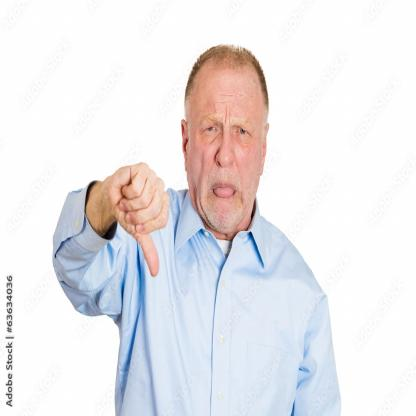Thumbs-Down: (106, 162, 172, 278)
